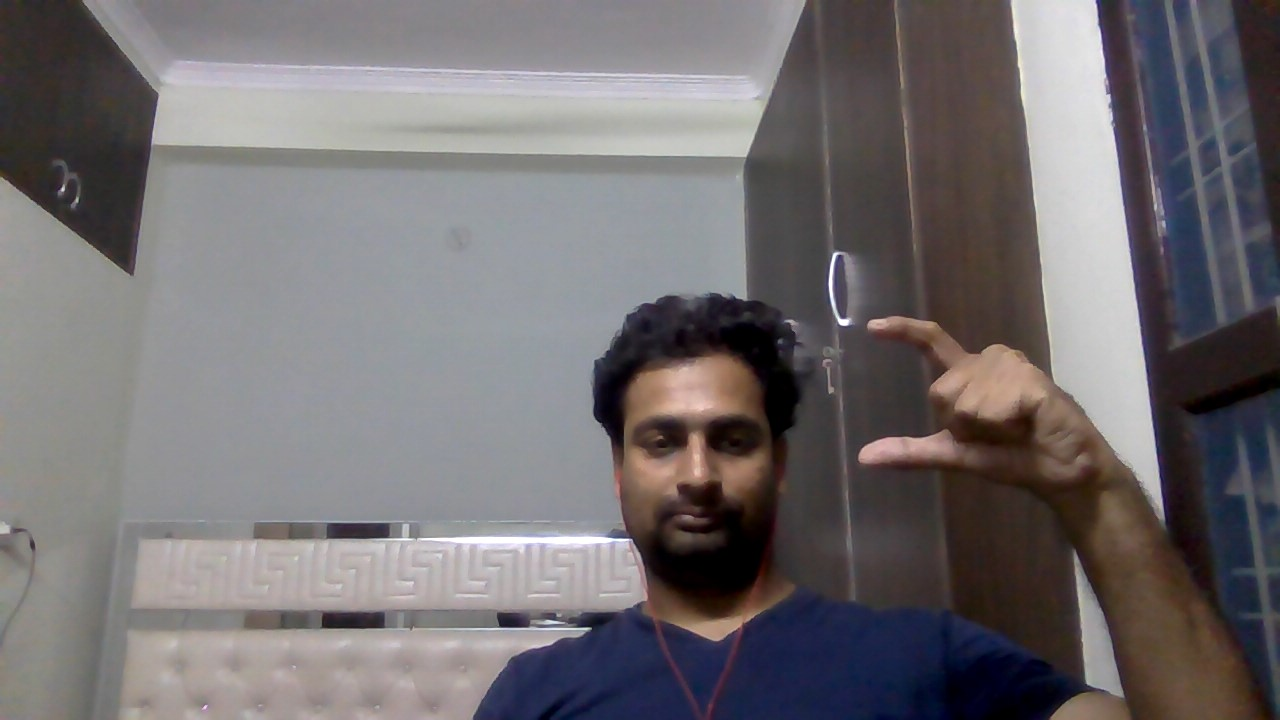Paste: (840, 303, 1135, 518)
